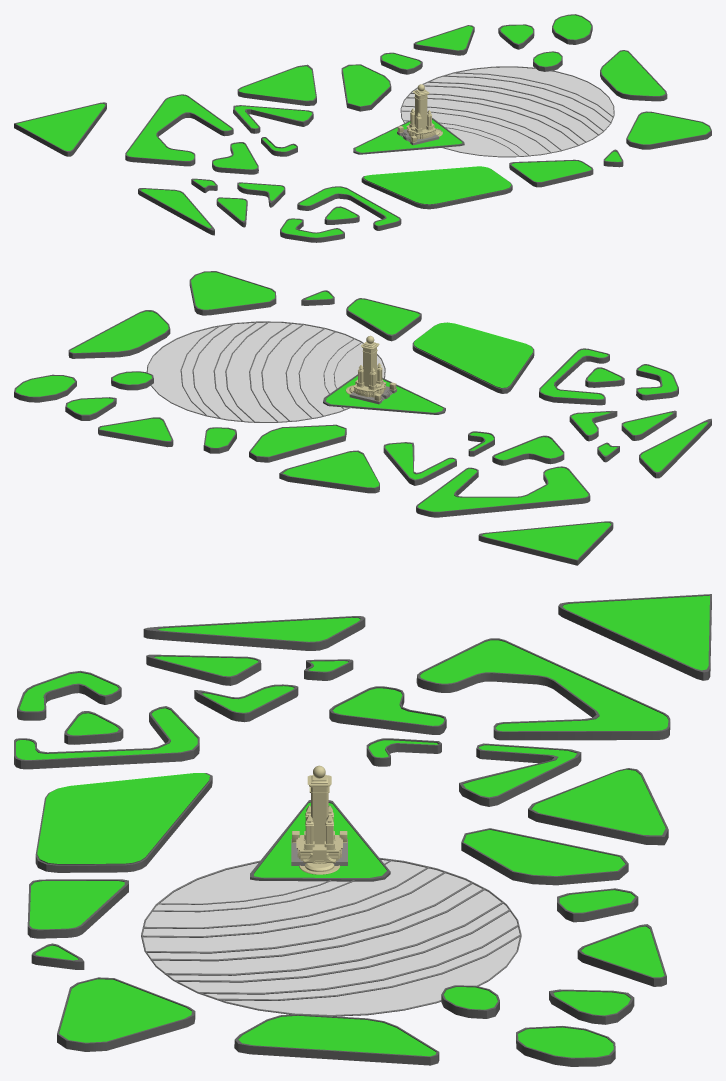
Rendered from PlazaEspana.fbx.
The picture shows the model from 3 angles, top to bottom: view 1: azimuth 30°, elevation 25°; view 2: azimuth 150°, elevation 25°; view 3: azimuth 270°, elevation 25°; orthographic projection. The views are drawn at different scales.
Parts seen in each view (by area): view 1: Bola, Jardines.001, Jardines.010, Jardines.011, Jardines.023, Jardines.020, Jardines.014, Jardines.015, Jardines.025, Jardines.022, Jardines.002, Jardines.007 (+13 smaller); view 2: Bola, Jardines.001, Jardines.010, Jardines.011, Jardines.023, Jardines.020, Jardines.014, Jardines.015, Jardines.025, Jardines.022, Jardines.002, Jardines.007 (+13 smaller); view 3: Bola, Jardines.001, Jardines.010, Jardines.011, Jardines.020, Jardines.023, Jardines.014, Jardines.015, Jardines.007, Jardines.025, Jardines.002, Jardines.022 (+15 smaller).
Boxes of the visible parts, x1,y1,x2,y2 form: Bola: (400, 66, 614, 157); Jardines.001: (361, 166, 512, 209); Jardines.010: (125, 94, 233, 166); Jardines.011: (14, 102, 106, 156); Jardines.023: (626, 111, 711, 149); Jardines.020: (600, 50, 667, 101); Jardines.014: (237, 64, 316, 105); Jardines.015: (341, 64, 391, 111); Jardines.025: (509, 159, 593, 187); Jardines.022: (353, 118, 464, 154); Jardines.002: (297, 186, 401, 230); Jardines.007: (138, 188, 214, 235); Bola: (146, 321, 385, 422); Jardines.001: (412, 322, 534, 393); Jardines.010: (416, 466, 590, 517); Jardines.011: (478, 521, 613, 565); Jardines.023: (189, 271, 276, 315); Jardines.020: (68, 310, 170, 358); Jardines.014: (279, 450, 379, 493); Jardines.015: (249, 424, 346, 462); Jardines.025: (346, 298, 421, 341); Jardines.022: (323, 374, 445, 414); Jardines.002: (539, 348, 609, 405); Jardines.007: (639, 418, 711, 478); Bola: (141, 857, 521, 1016); Jardines.001: (35, 773, 212, 872); Jardines.010: (416, 638, 670, 740); Jardines.011: (558, 594, 711, 680); Jardines.020: (234, 1014, 439, 1065); Jardines.023: (57, 977, 195, 1051); Jardines.014: (528, 768, 668, 845); Jardines.015: (461, 828, 628, 885); Jardines.007: (143, 616, 365, 650); Jardines.025: (27, 879, 128, 938); Jardines.002: (14, 706, 199, 769); Jardines.022: (250, 800, 390, 881).
Size of the model in its own units: 10301 by 965 by 6542.
